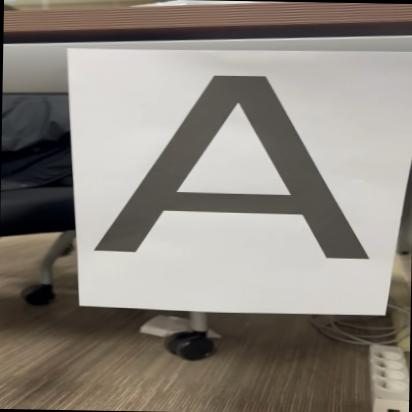seat: (84, 68, 390, 275)
